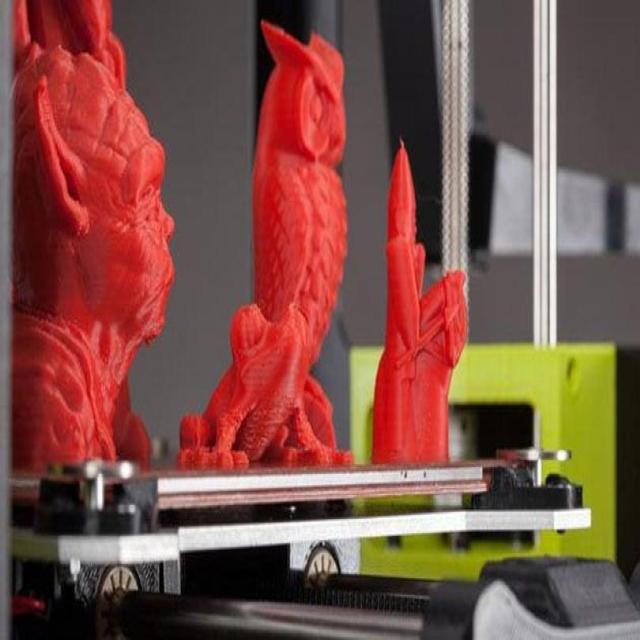Without deffect: (7, 0, 477, 487)
